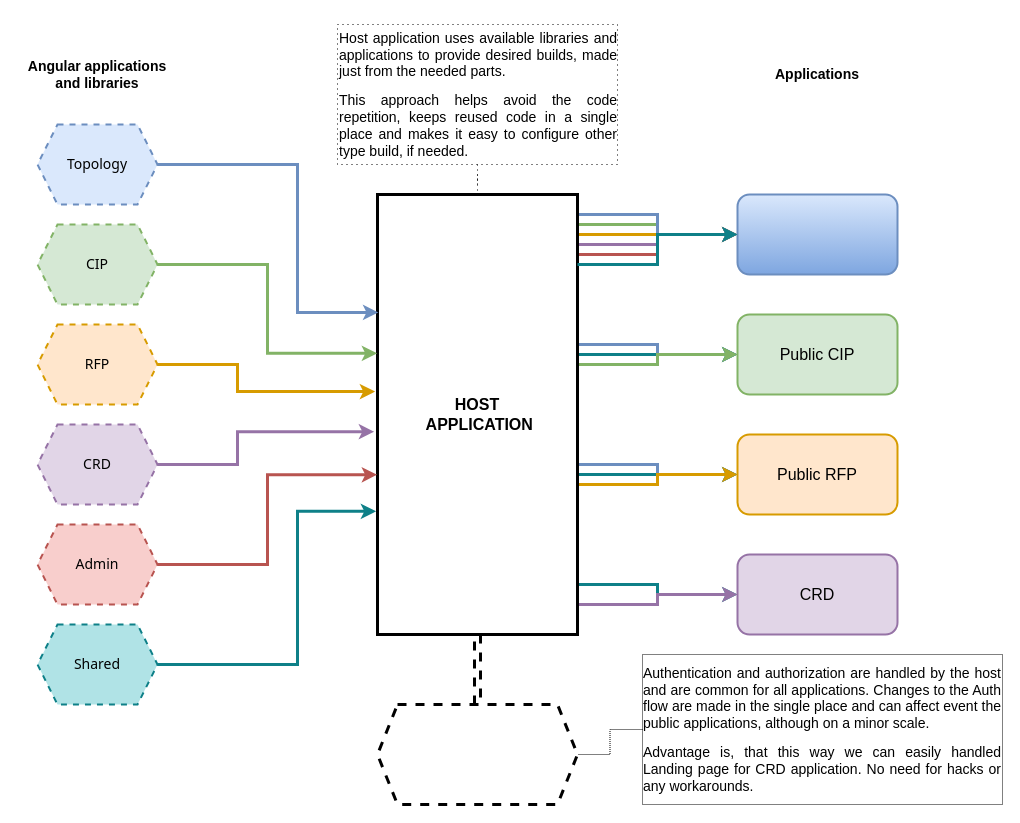
This 1020x823 diagram has some shape labels left out. The shapes that lost their labels are listed below. From the top down, each one's centre as x and y in pixels, then its label:
At [817,234]: "RIS".
At [477,754]: "Authentication Authorization Basic Layout Application Navigation".
